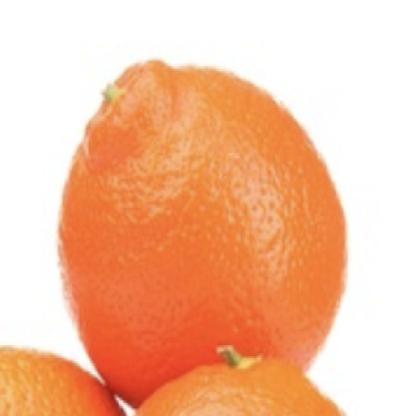fresh: (58, 57, 343, 387)
